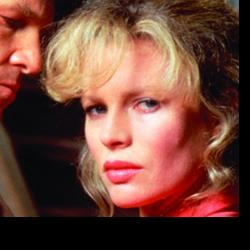face: (46, 5, 241, 210), (1, 1, 45, 127)
